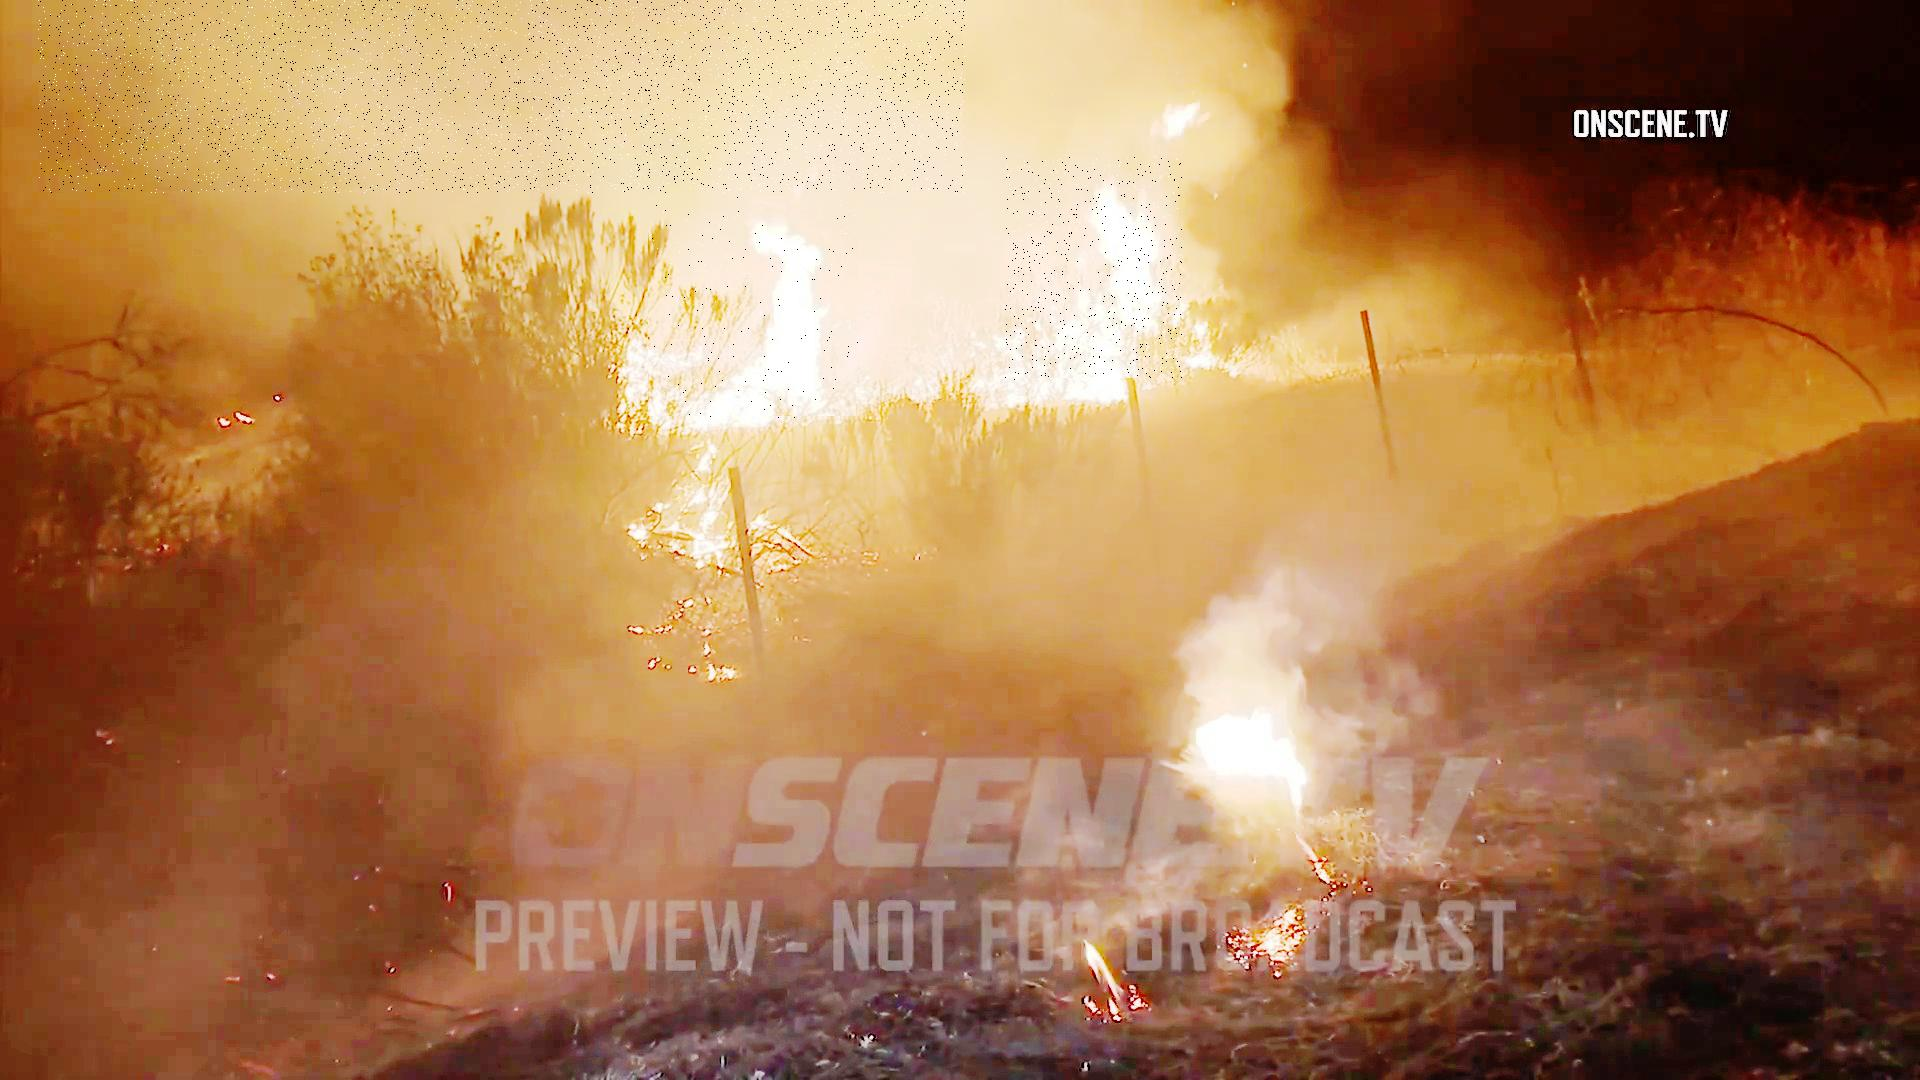fire: (647, 198, 858, 419), (1006, 158, 1183, 381)
smoke: (40, 0, 965, 193)
